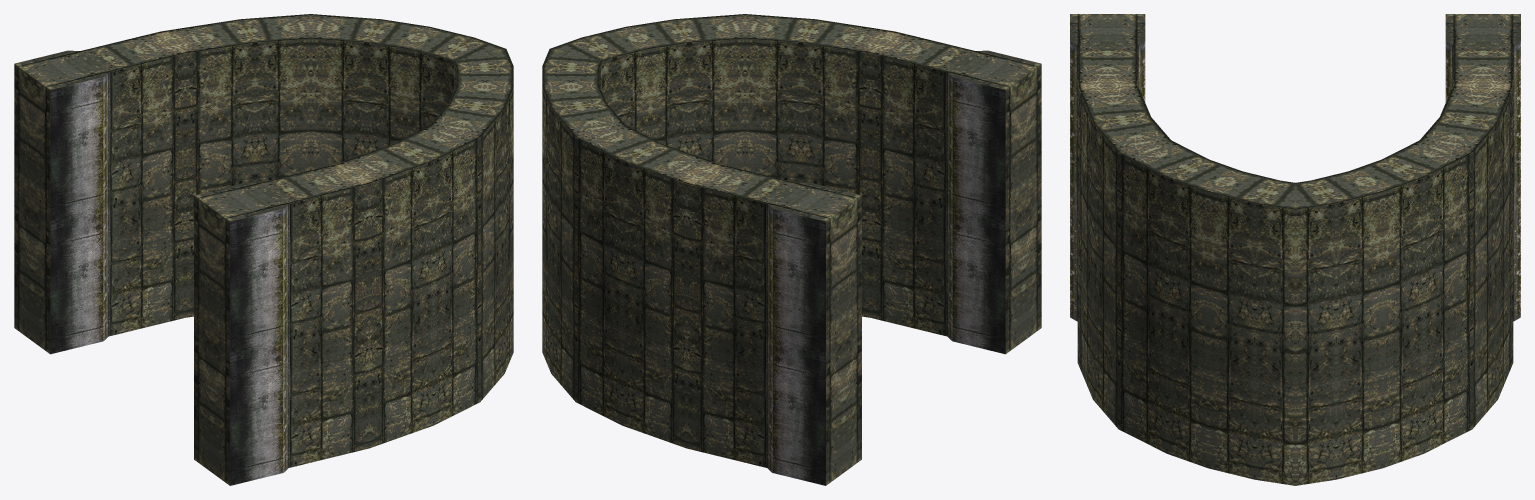
Rendered from Lab_Arc2.gltf.
3 views of the same model, side by side, from view 1: azimuth 30°, elevation 25°; view 2: azimuth 150°, elevation 25°; view 3: azimuth 270°, elevation 25° (orthographic). The views are drawn at different scales.
Visible parts, largest first — view 1: Lab_Arc2; view 2: Lab_Arc2; view 3: Lab_Arc2.
Boxes of the visible parts, x1=… form: Lab_Arc2: x1=14, y1=14, x2=513, y2=485; Lab_Arc2: x1=542, y1=14, x2=1041, y2=485; Lab_Arc2: x1=1070, y1=14, x2=1520, y2=485.
Size of the model in its own units: 0.0494 by 0.0325 by 0.0481.
1 material, 1 textured.
